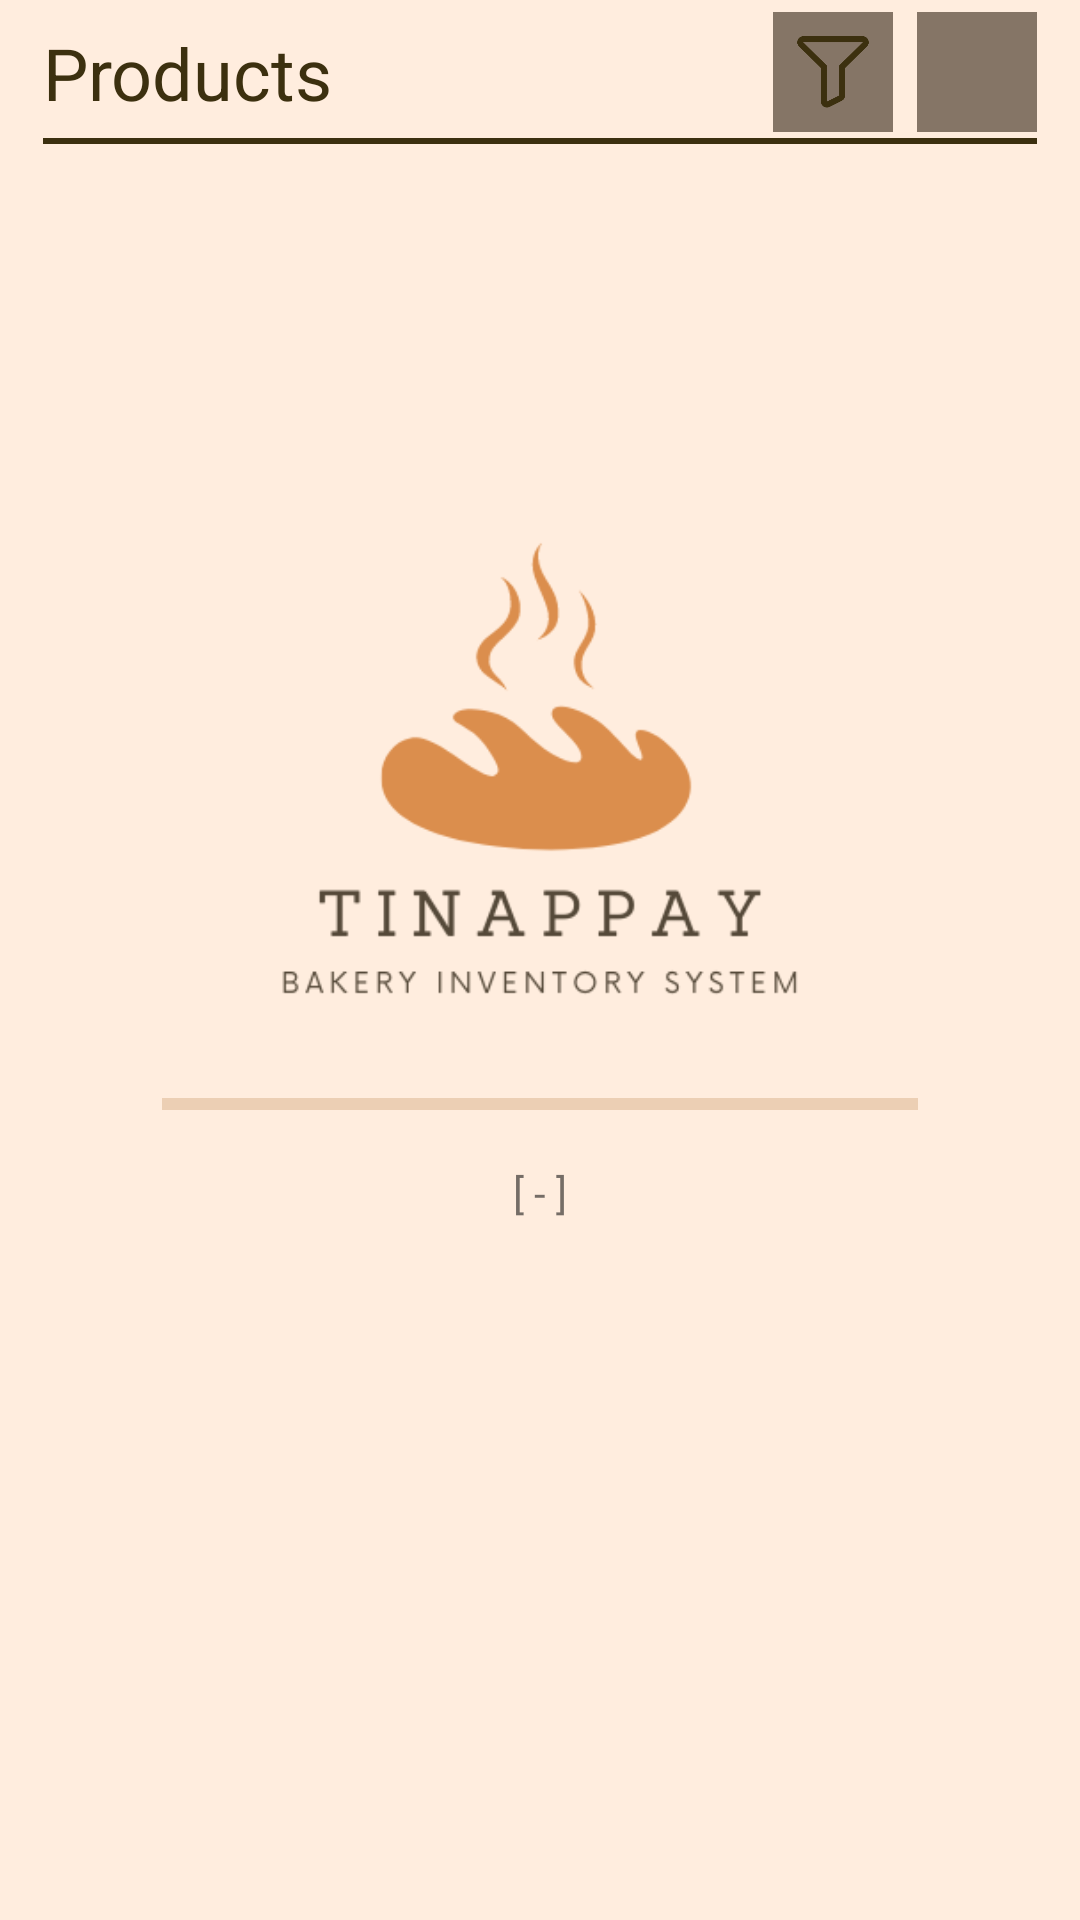

Named icons in this screenshot (1080x1920) and their bounding boxes, (x1, y1, x2, y2):
filter: (773, 12, 893, 132)
